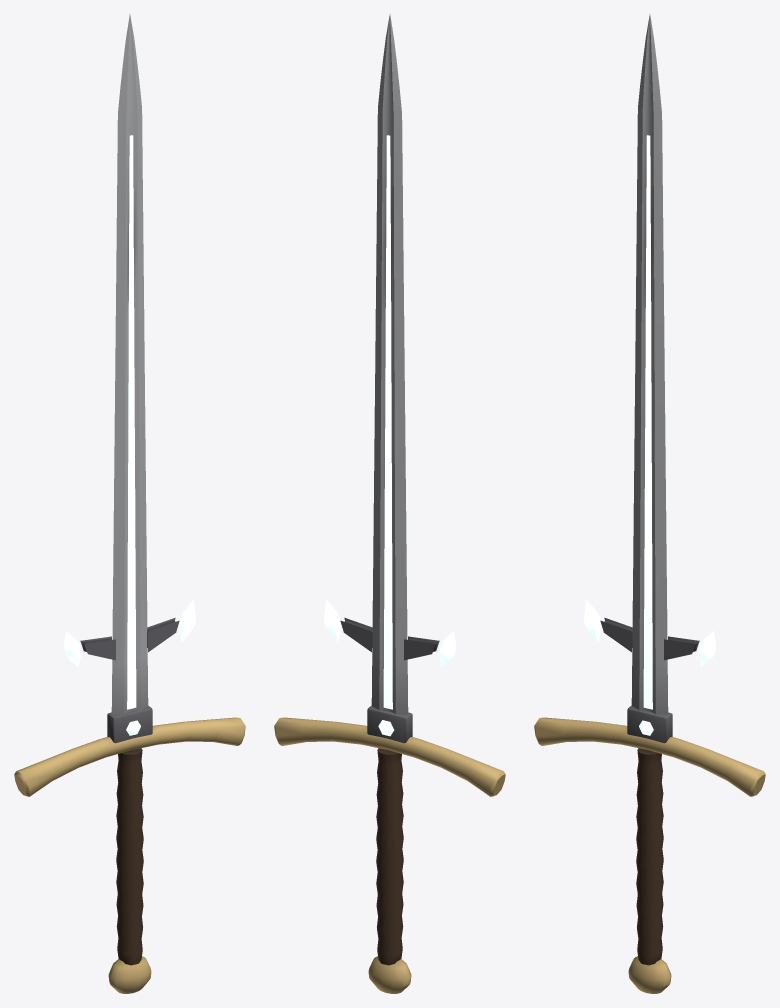
File: greatsword_aether.glb
3 views of the same model, side by side, from view 1: azimuth 30°, elevation 25°; view 2: azimuth 150°, elevation 25°; view 3: azimuth 330°, elevation 25° (orthographic).
Parts seen in each view (by area): view 1: greatsword_aether; view 2: greatsword_aether; view 3: greatsword_aether.
Part boxes in pixels (box(x1,y1,x2,y2)): greatsword_aether: box(14, 14, 245, 993); greatsword_aether: box(274, 14, 505, 993); greatsword_aether: box(534, 14, 765, 993).
Size of the model in its own units: 0.3896 by 1.62 by 0.05.
